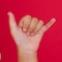clockwise: (5, 6, 58, 50)
